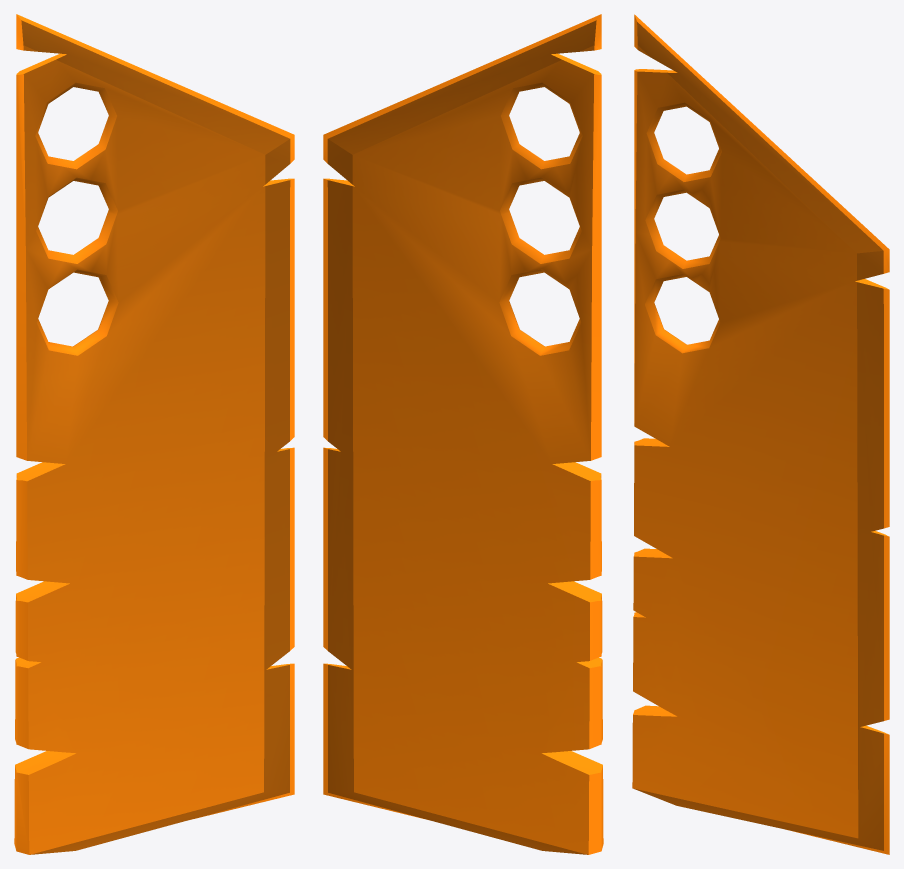
File: bronze_blade_scratched_039.glb
The picture shows the model from 3 angles, left to right: view 1: azimuth 30°, elevation 25°; view 2: azimuth 150°, elevation 25°; view 3: azimuth 330°, elevation 25°; orthographic projection. The views are drawn at different scales.
Visible parts, largest first — view 1: bronze_blade_scratched.039; view 2: bronze_blade_scratched.039; view 3: bronze_blade_scratched.039.
Boxes of the visible parts, bbox=[...] form: bronze_blade_scratched.039: bbox=[14, 14, 294, 854]; bronze_blade_scratched.039: bbox=[323, 14, 603, 854]; bronze_blade_scratched.039: bbox=[632, 14, 889, 854].
Bounding box in the file's own units: 4.06 × 11.85 × 0.374.
1 material, 1 textured.
